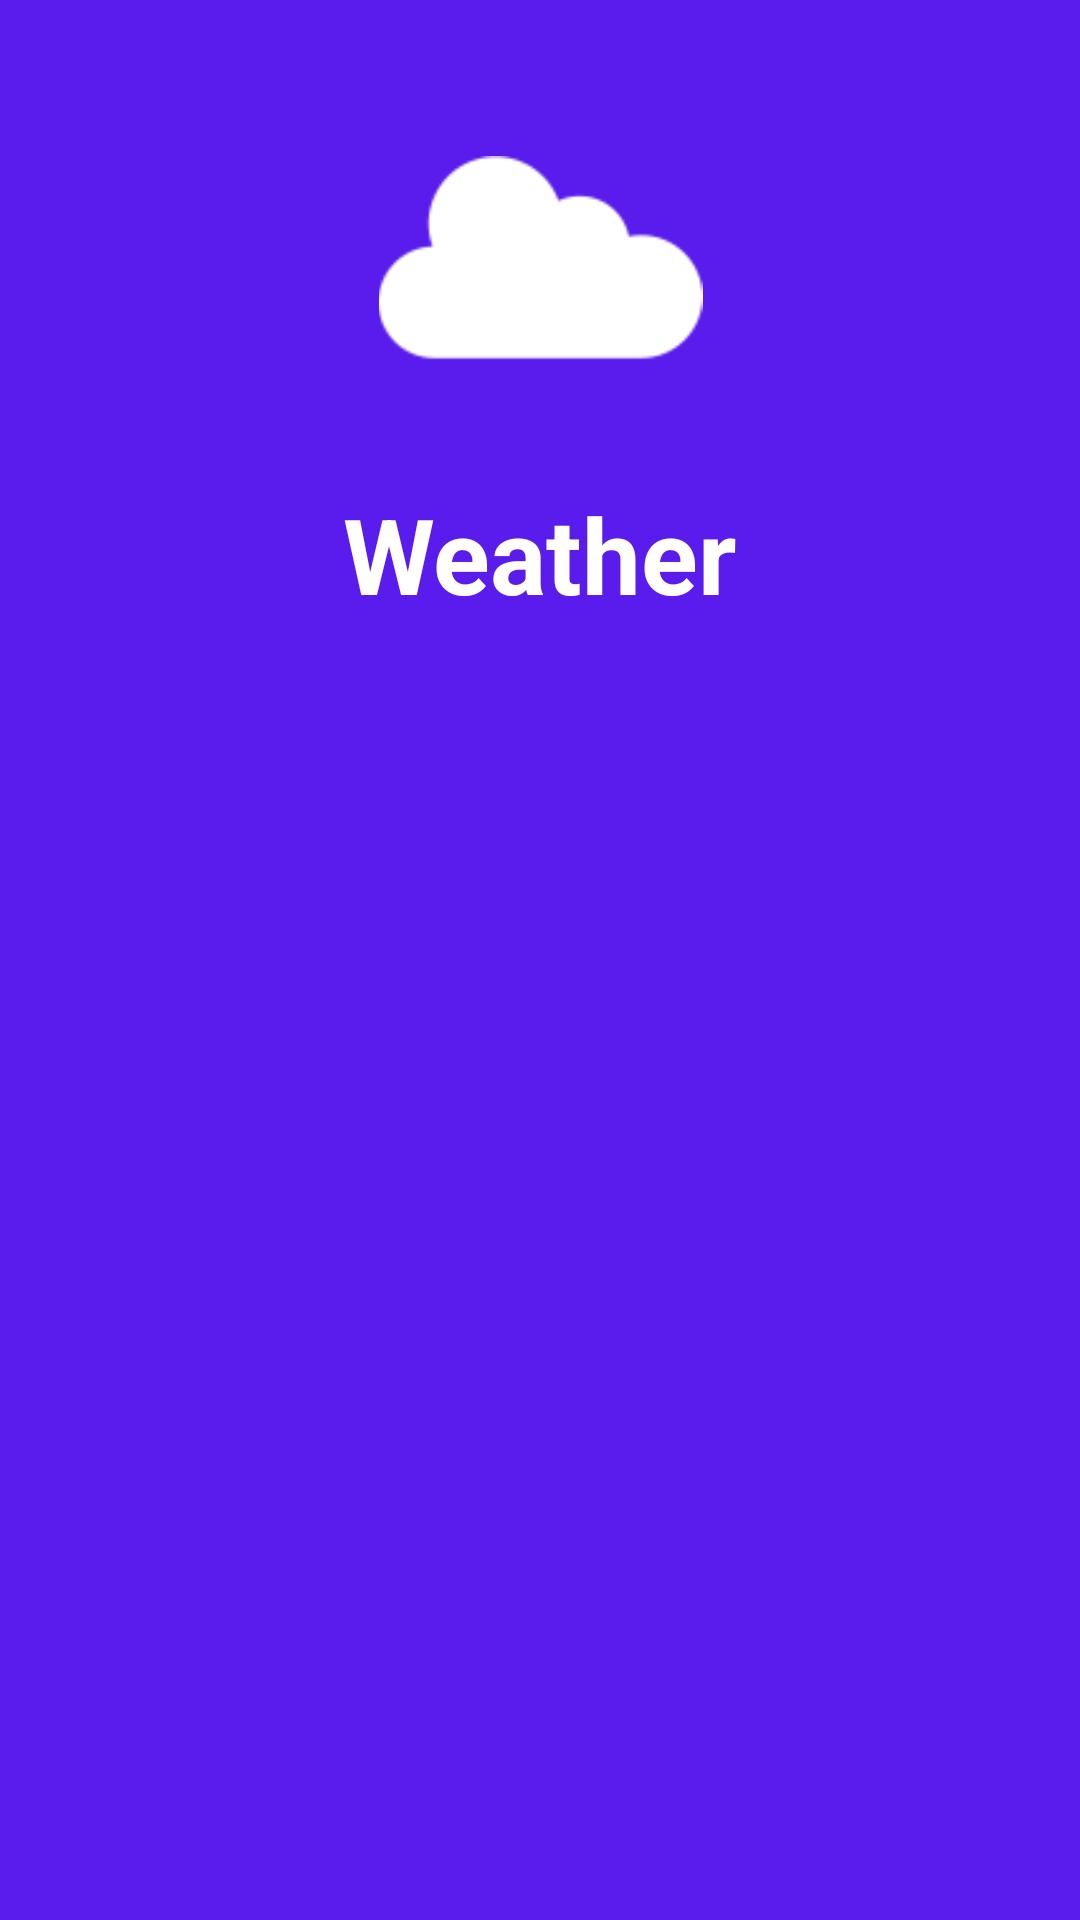

Icons on this 1080px x 1920px Android screen, each with its box as [x1,y1,x2,y2]:
cloudwhite: [379,156,703,359]
